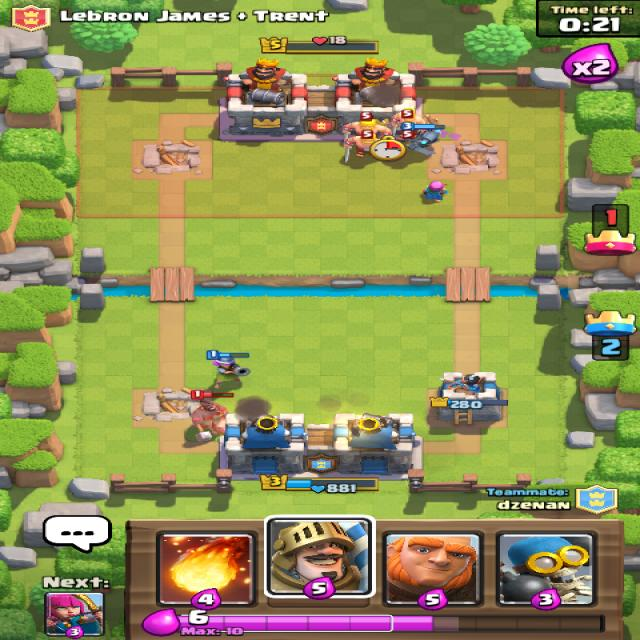Enemy-Barbarian: (340, 130, 385, 163), (340, 110, 391, 136), (389, 109, 424, 133)
Enemy-HogRider: (187, 388, 233, 442)
Player-Archer: (418, 179, 450, 203)
Player-MiniPEKKA: (399, 121, 444, 155)
Player-Musketeer: (204, 349, 251, 388)
